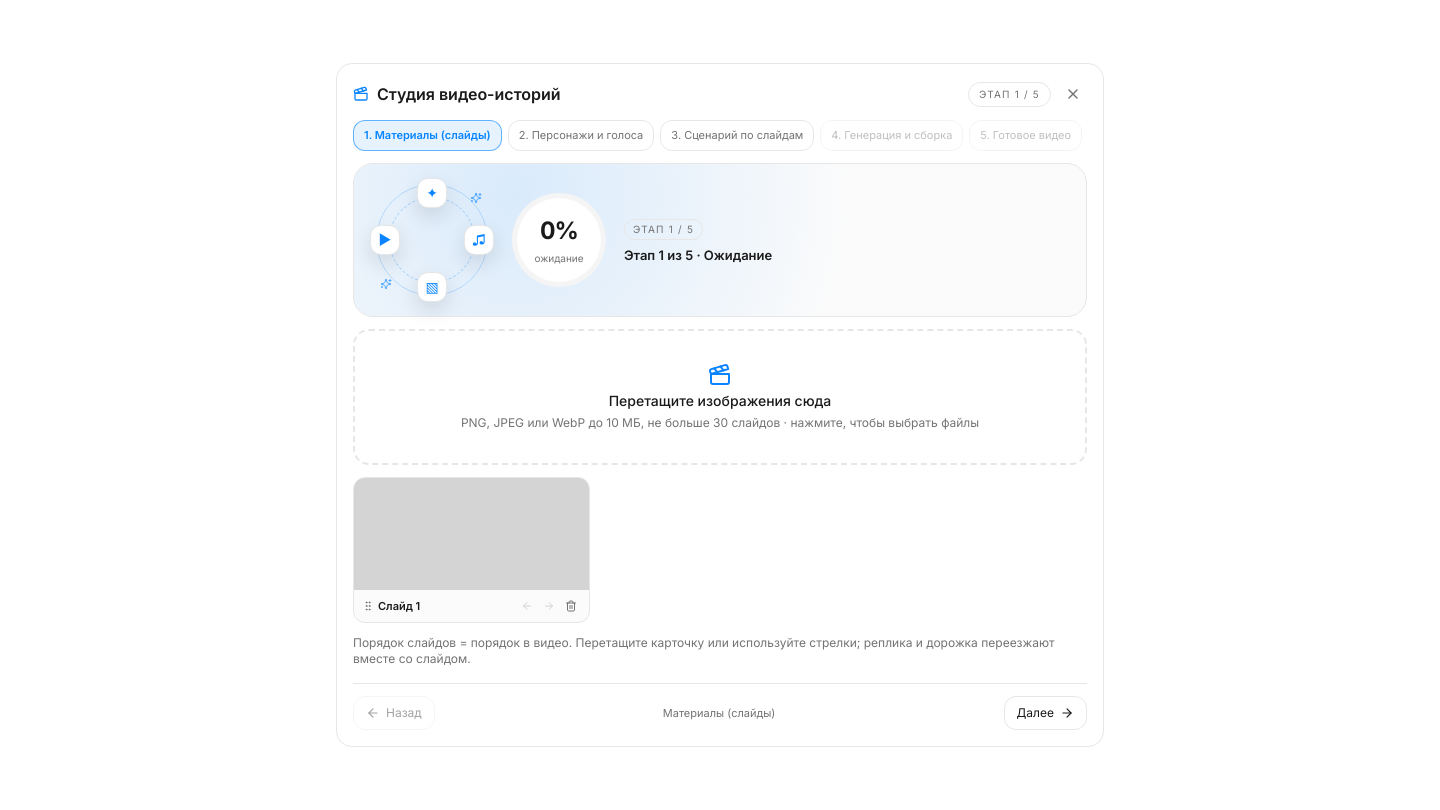
it: студия: этап 1 — материалы › кнопка «Далее» ведёт на этап персонажей
Earlier steps of the test are not shown.
Click the button with test id "story-stage-3". click: [737, 136]
box: left=660, top=120, right=814, bottom=151
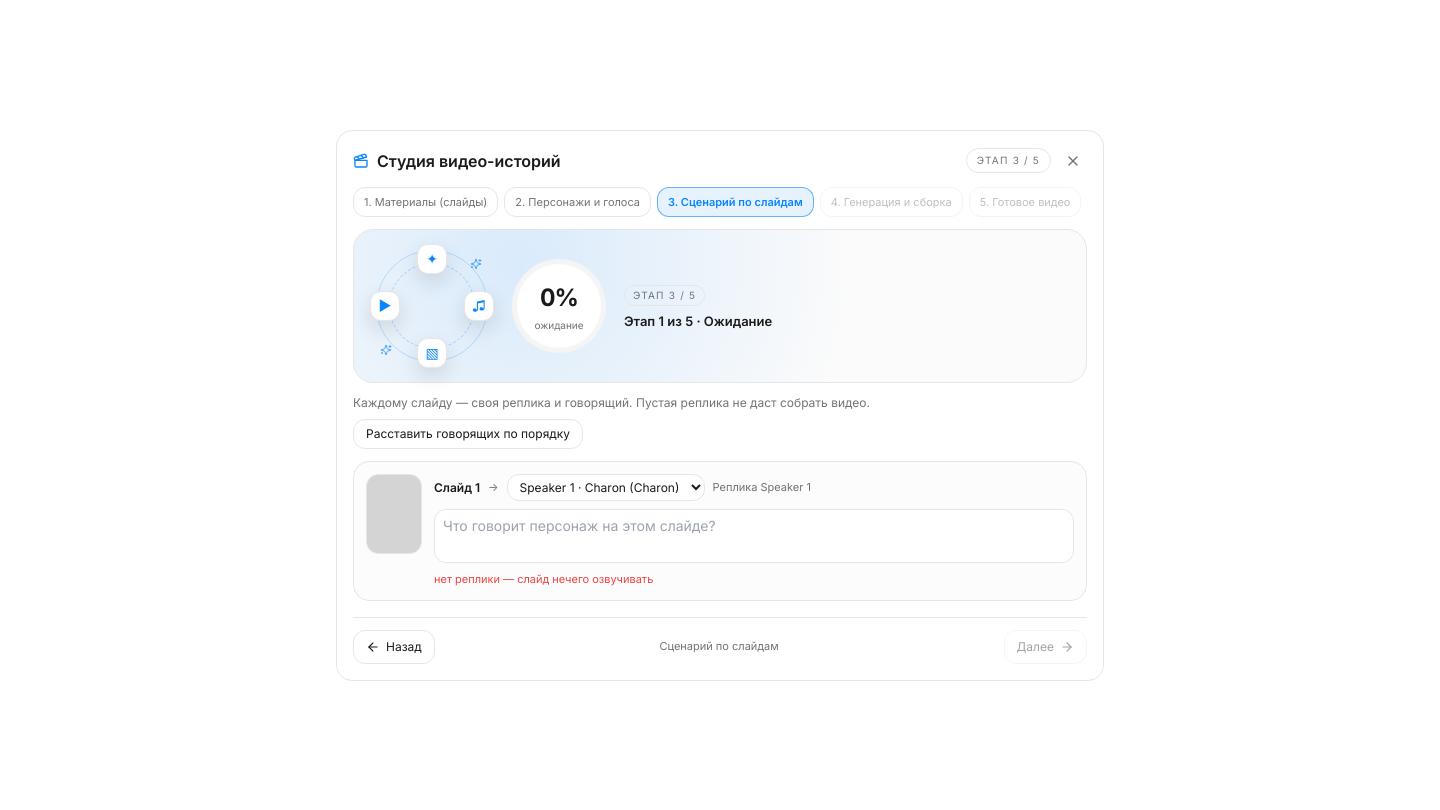
Now the text box with test id "story-script-1" is shown
Type "Реплика слайда 1" into the text box with test id "story-script-1". click: [754, 536]
box: left=434, top=509, right=1074, bottom=563
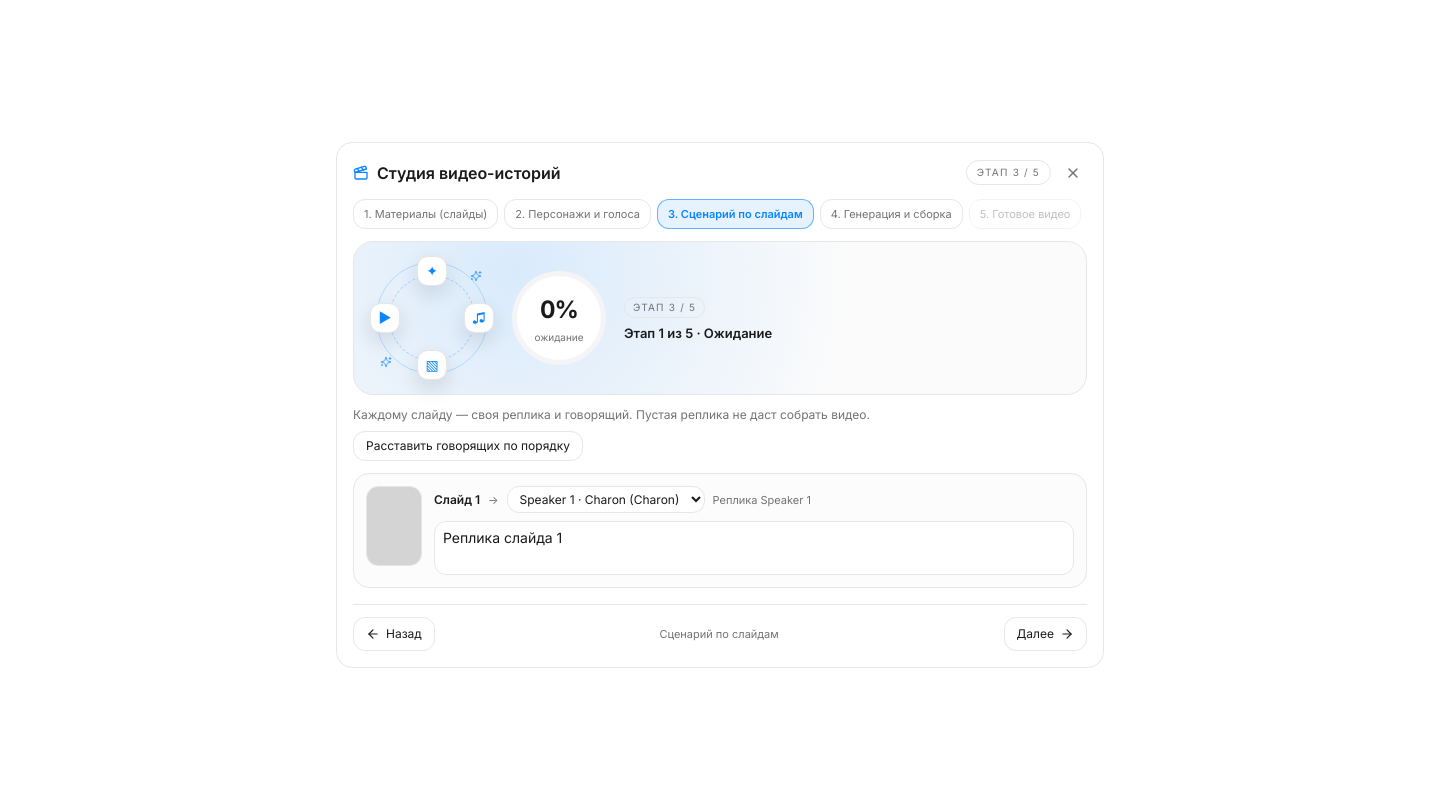
Click the button with test id "story-stage-1". click: [426, 214]
box: left=353, top=199, right=498, bottom=229
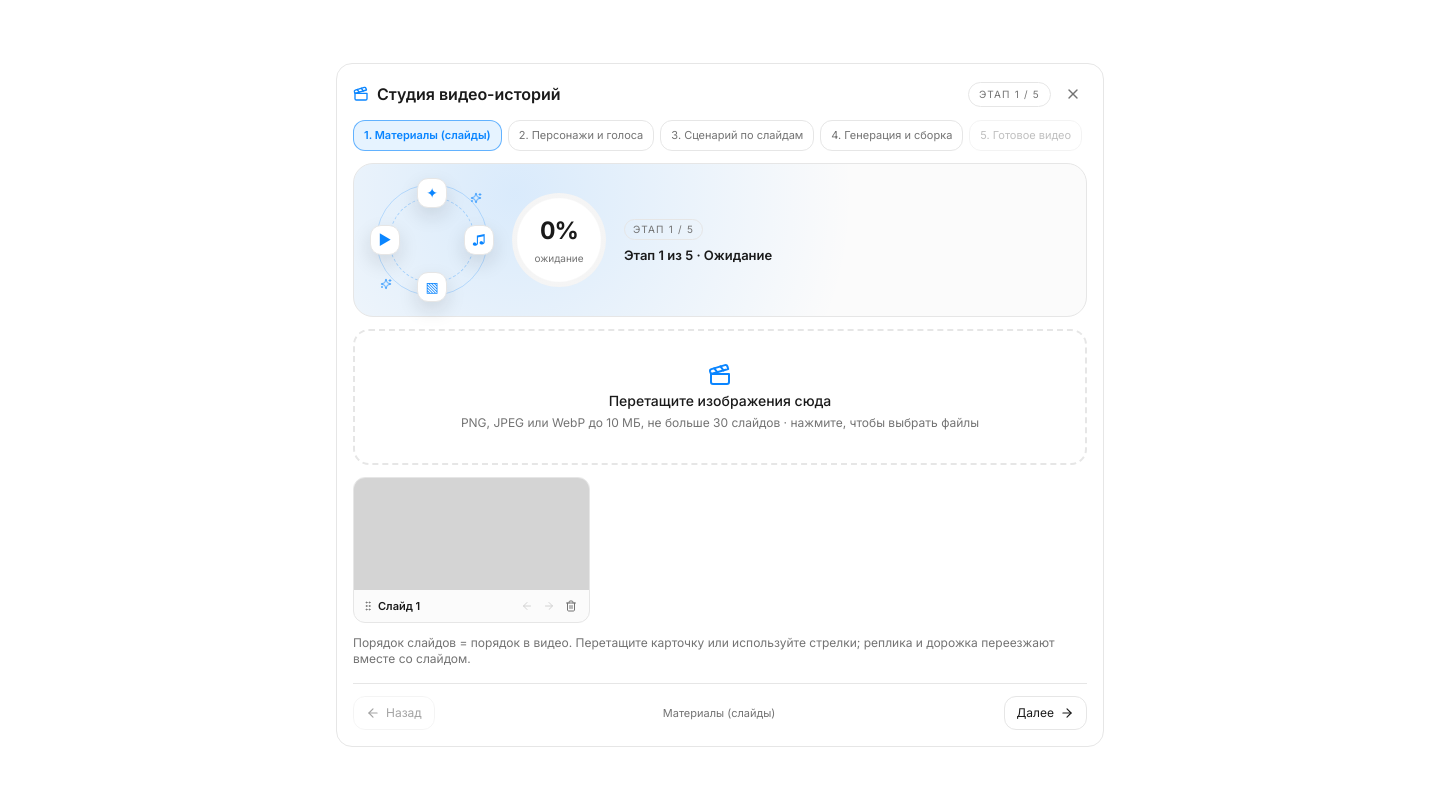
Click the button with test id "story-next". click: [1045, 713]
box: left=1004, top=696, right=1087, bottom=730
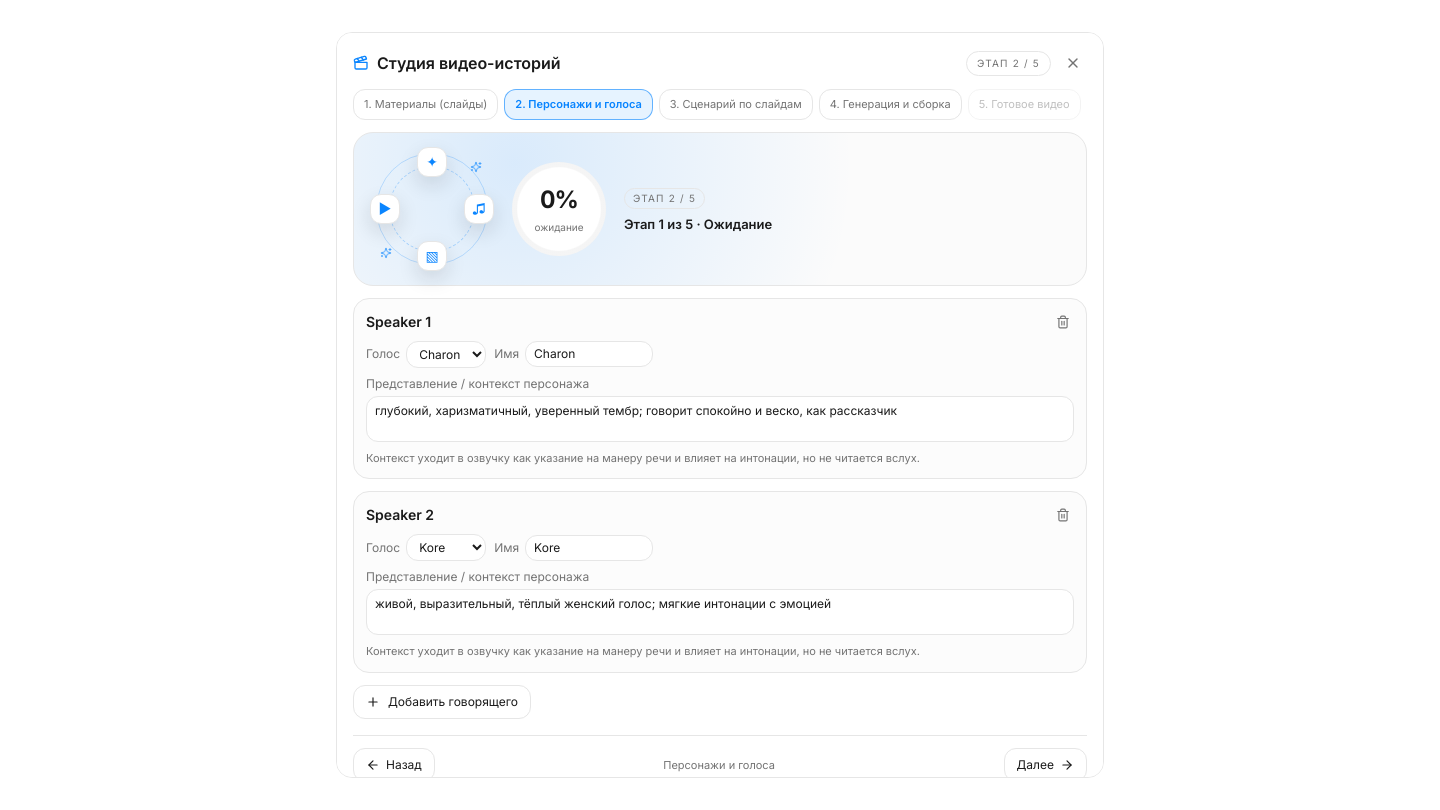
Now the text with test id "story-stage" shows "ЭТАП 2", box left=966, top=51, right=1051, bottom=76
